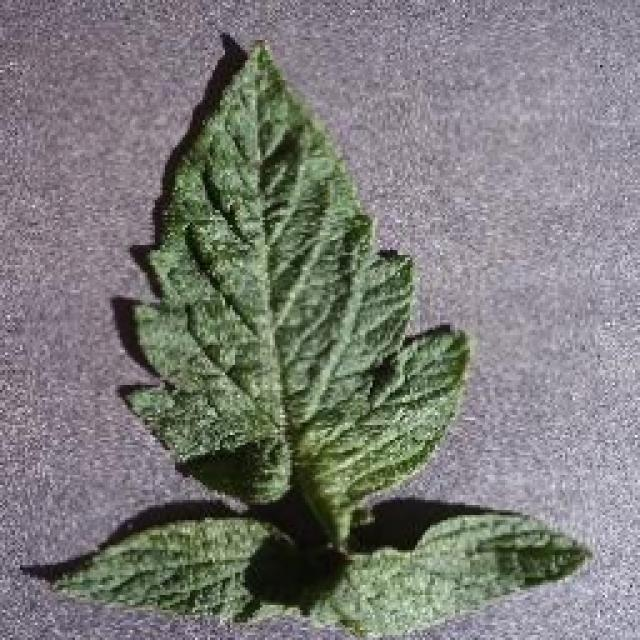Healthy: (22, 20, 600, 640)
